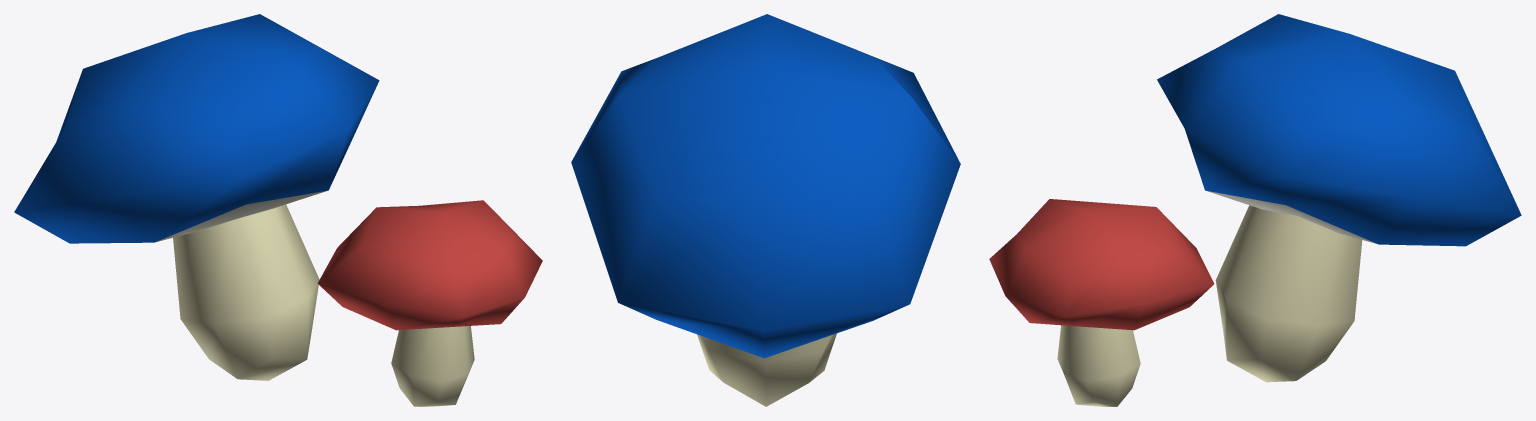
Rendered from prop_mushroom.glb.
3 renders of one model, left to right at view 1: azimuth 30°, elevation 25°; view 2: azimuth 150°, elevation 25°; view 3: azimuth 270°, elevation 25°, orthographic. The views are drawn at different scales.
Visible parts, largest first — view 1: prop_mushroom; view 2: prop_mushroom; view 3: prop_mushroom.
Part boxes in pixels (x1,y1,x2,y2): prop_mushroom: (14,14,542,406); prop_mushroom: (571,14,960,406); prop_mushroom: (989,14,1521,406).
Bounding box in the file's own units: 1.14 × 0.9733 × 1.43.
